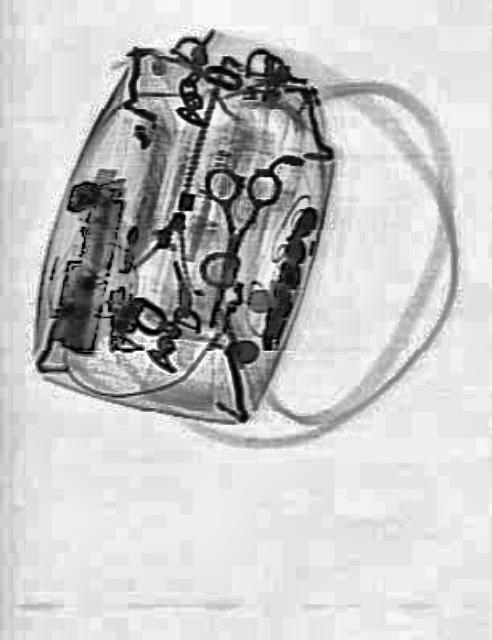Scissors: (174, 153, 280, 335)
